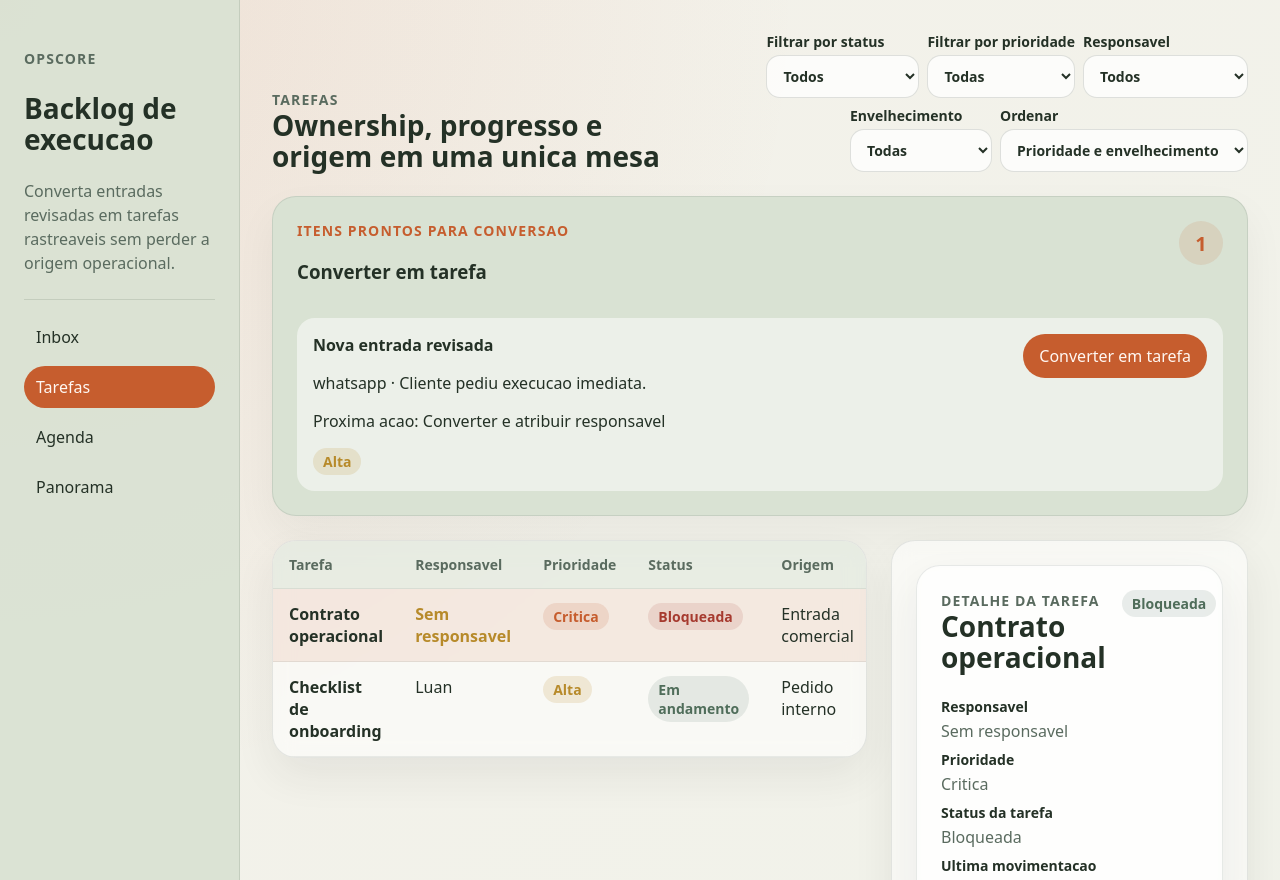
Test: execution workspace shell › converts a ready item and refreshes the radar
Click the button "Converter em tarefa": (1115, 356) 1023,334 -> 1207,378
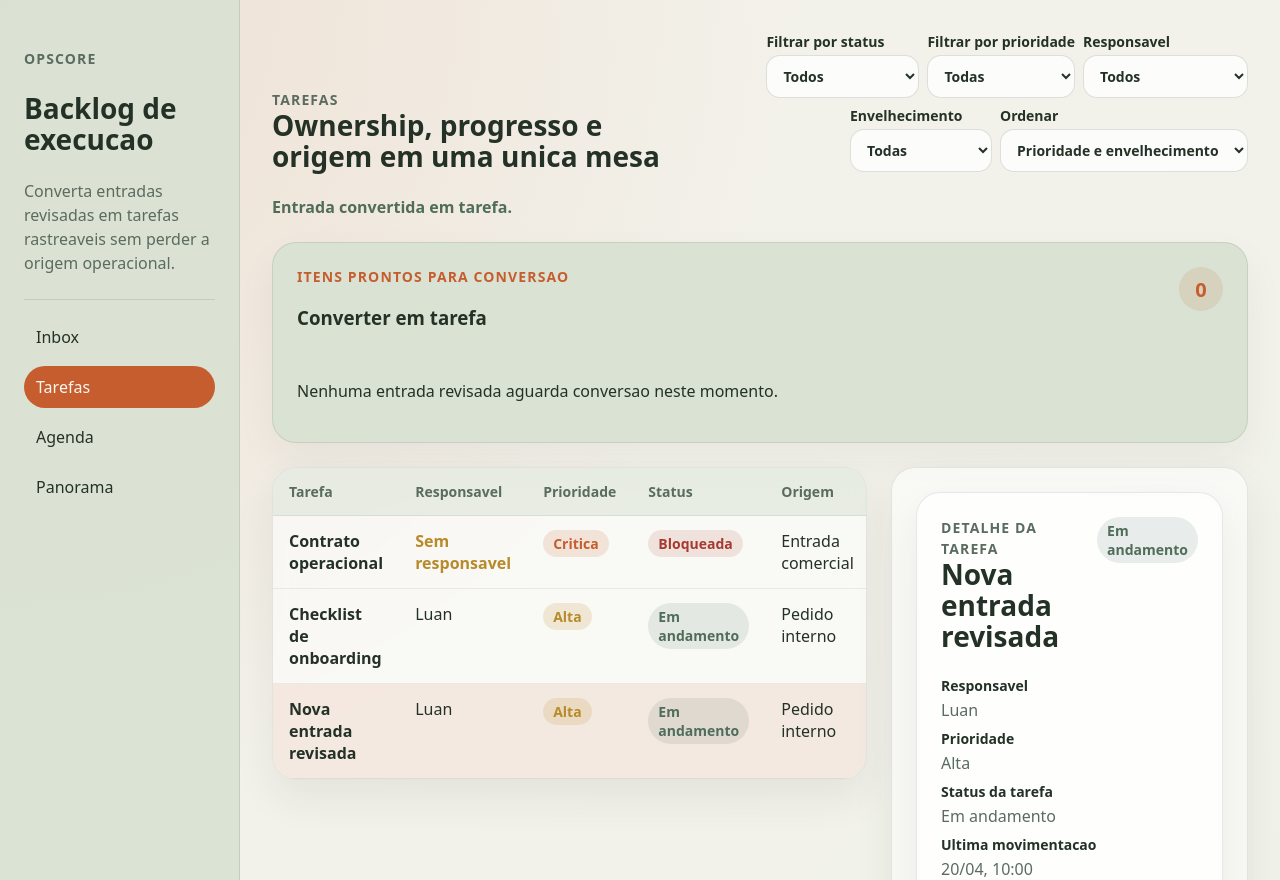
expect the text "Entrada convertida em tarefa." is shown: met, box 272,196 -> 512,218
